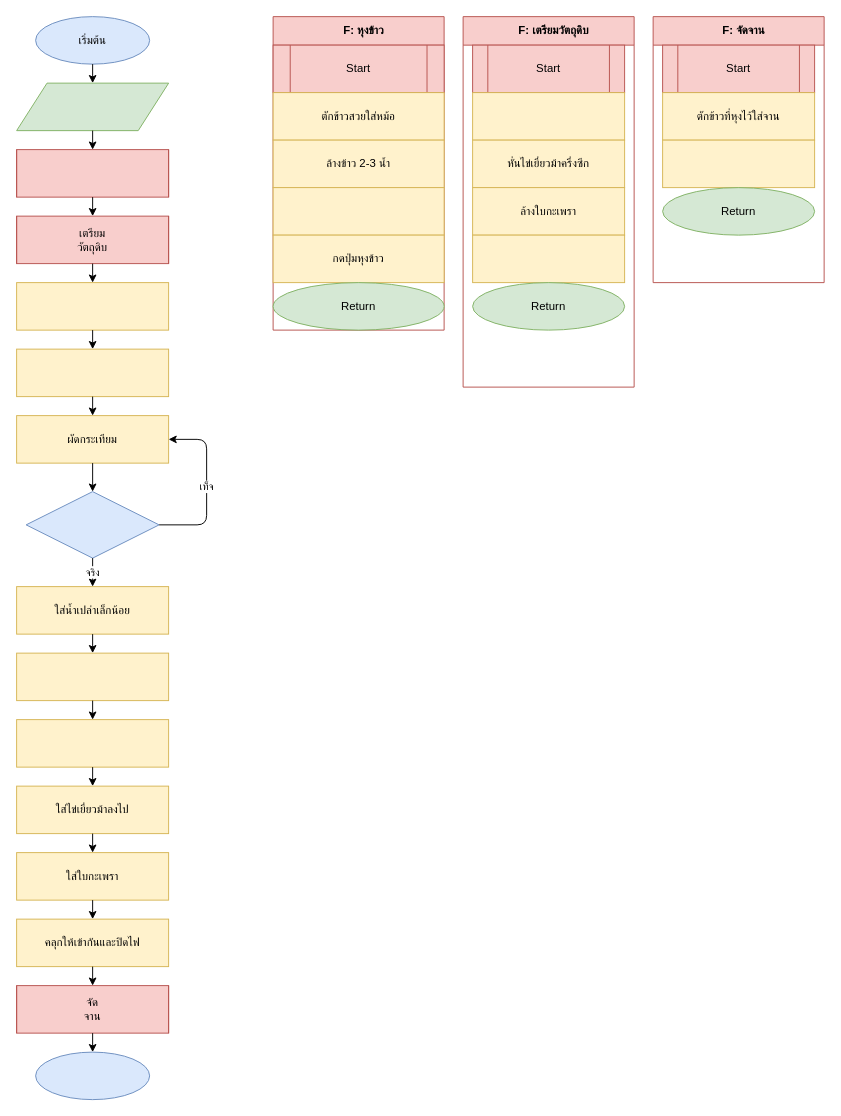
Some shapes in this 841 by 1116 pixel diagram are drawn without their labels. The shapes that lost their labels are listed below. From the top down, each one's centre as x and y in pixels, then its label:
At pixel 92 106: "ซื้อไข่เยี่ยวม้า หมูกรอบ ใบกะเพรา กระเทียม".
At pixel 548 116: "หั่นหมูกรอบพอดีคำ".
At pixel 92 173: "หุงข้าว".
At pixel 738 163: "ตักกะเพราหมูกรอบราดข้าว".
At pixel 358 211: "ใส่น้ำสูงกว่าข้าว 1 ข้อนิ้ว".
At pixel 548 258: "หั่นกระเทียมตามใจชอบ".
At pixel 92 306: "ตั้งกระทะ ไฟกลาง/เบา".
At pixel 92 372: "ใส่น้ำมัน".
At pixel 92 524: "กระเทียมหอมและเปลี่ยนสี?".
At pixel 92 676: "ปรุงรสด้วยเครื่องปรุง".
At pixel 92 743: "ใส่หมูกรอบที่หั่น".
At pixel 92 1075: "จบ".
